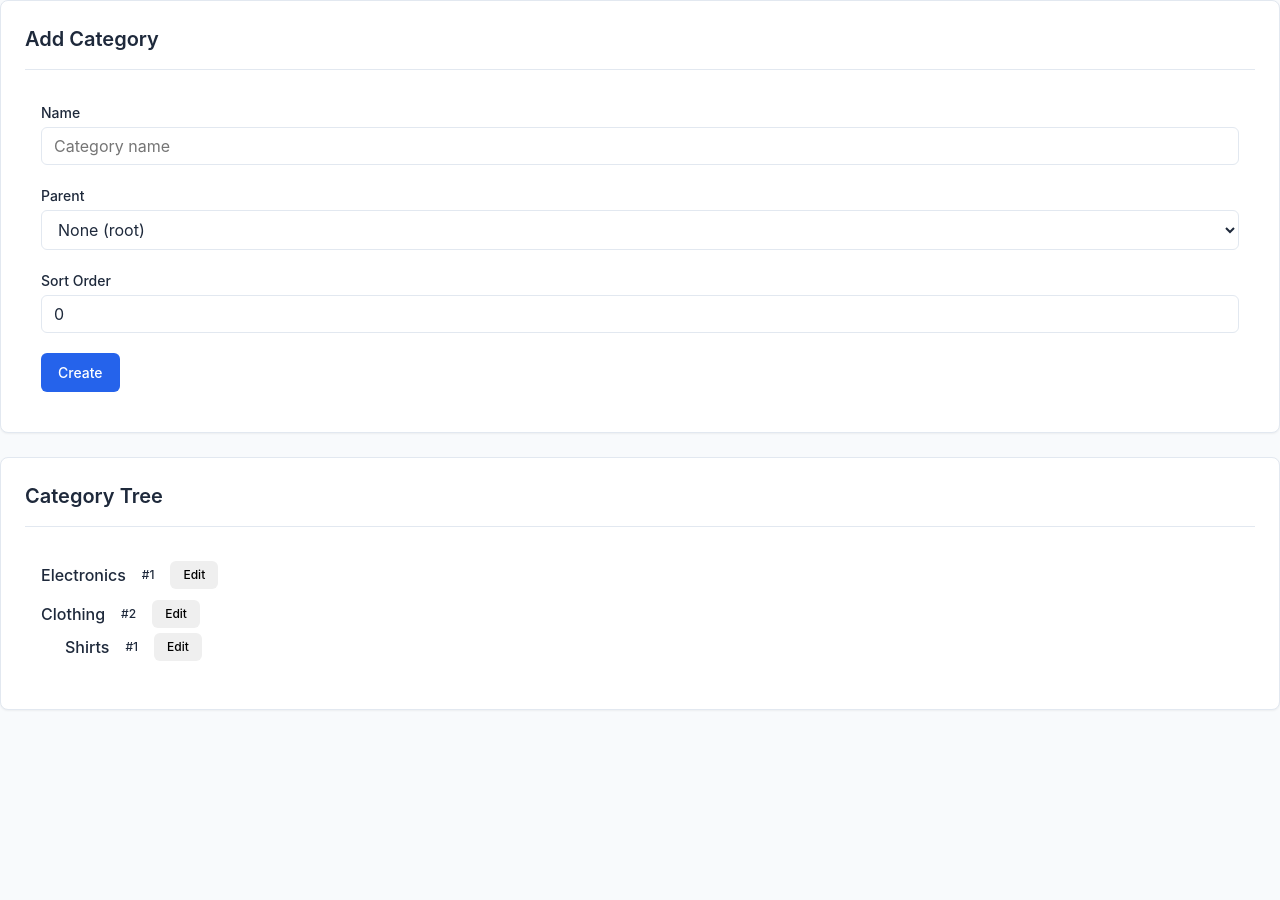
Scenario: AdminCategoriesTab — edit mode › switches to "Edit Category" heading when an Edit button is clicked
What coordinates should you click on to do the following:
click the button "Edit" in the row of "Electronics"
I would click on:
 (194, 575)
Its box is [170,561,218,589].
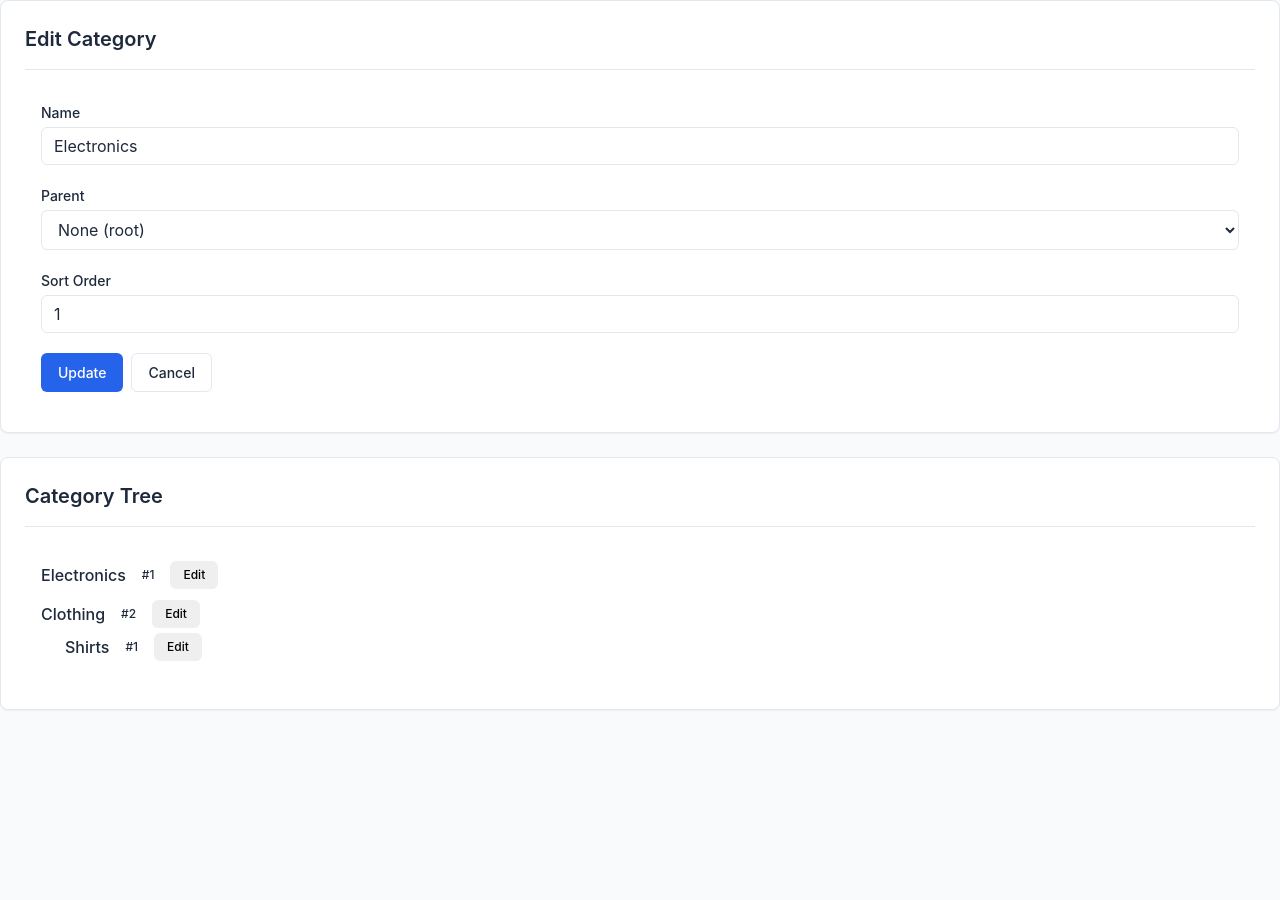
Now the text "Edit Category" is shown, box [25,25,156,53]
